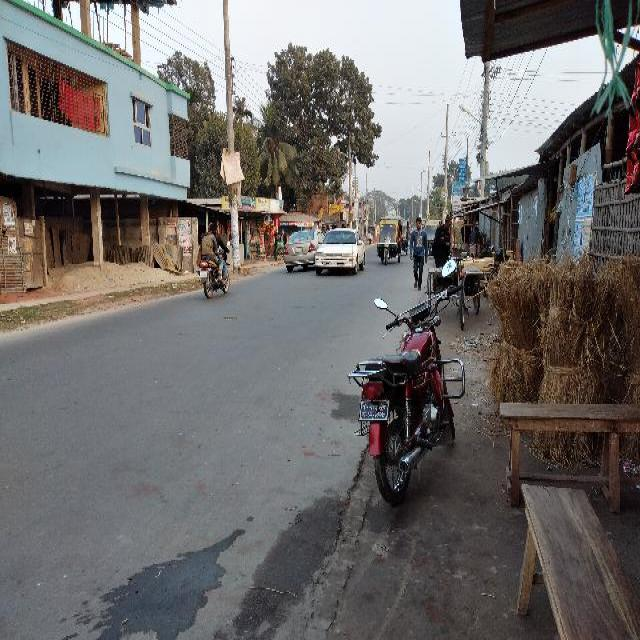bike: (347, 284, 469, 508), (199, 225, 232, 300)
vehicle: (316, 226, 369, 278), (377, 216, 409, 266), (283, 230, 314, 273), (425, 219, 443, 258), (321, 219, 347, 228), (369, 230, 375, 244)
